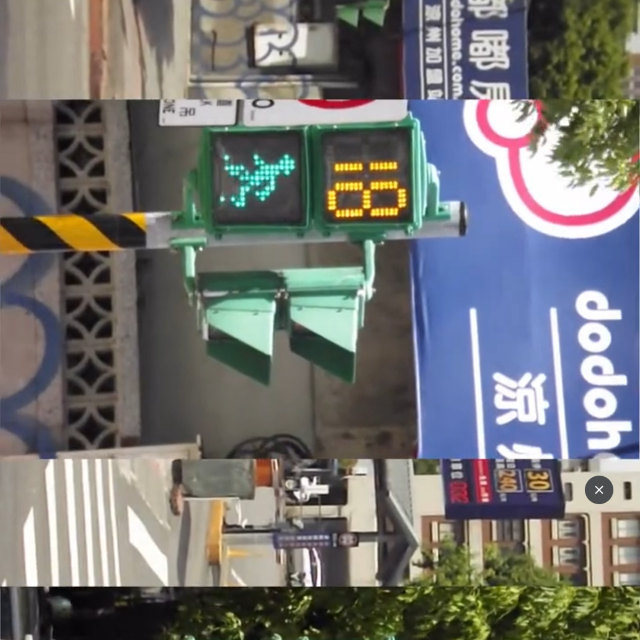green_light: (201, 126, 423, 234)
